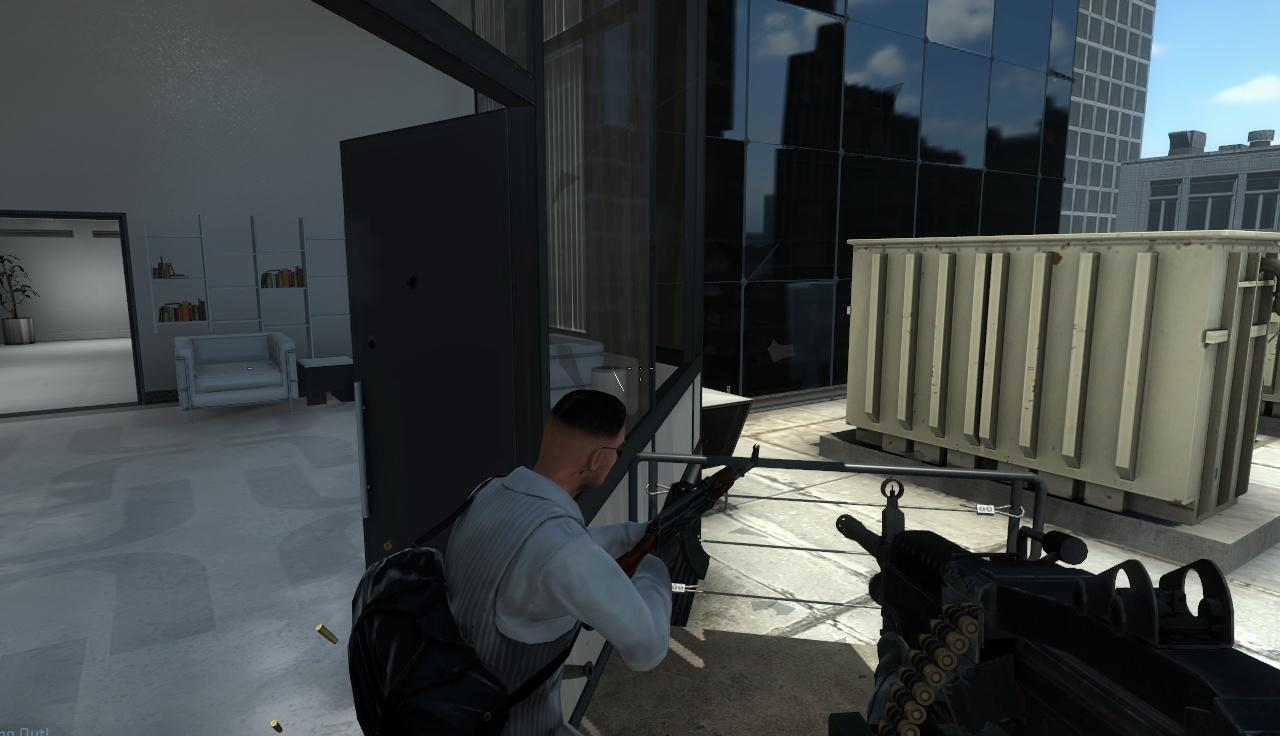rifle: (831, 475, 1280, 736)
tt: (448, 387, 671, 736)
tthead: (536, 389, 629, 490)
